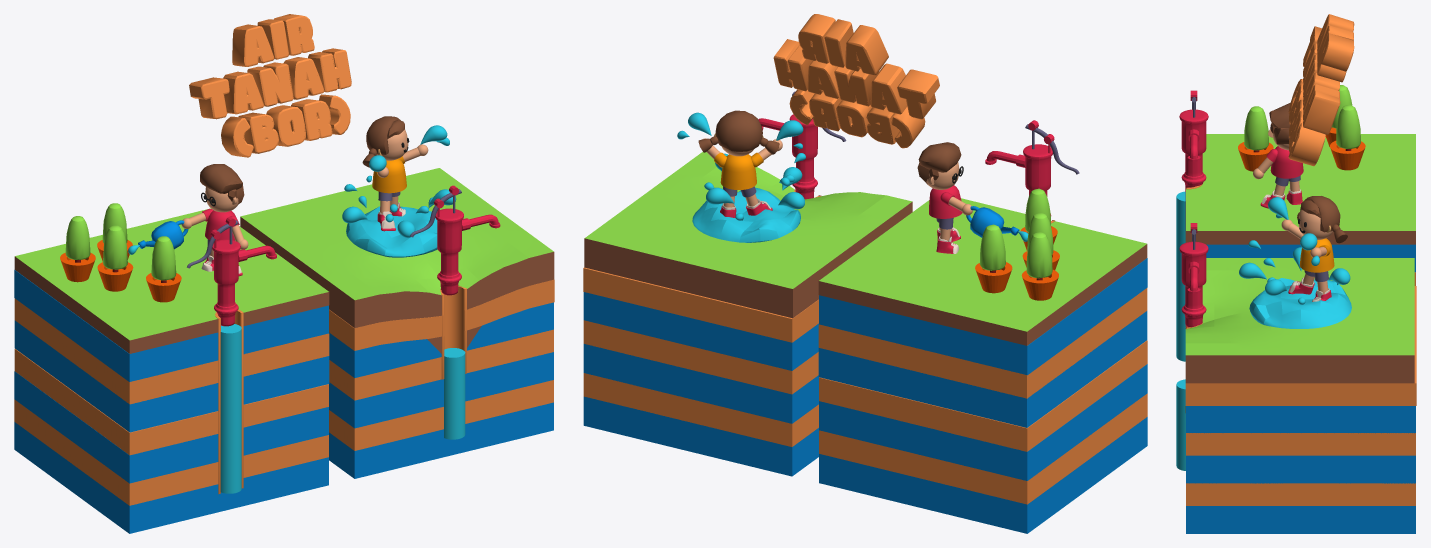
The picture shows the model from 3 angles, left to right: view 1: azimuth 30°, elevation 25°; view 2: azimuth 150°, elevation 25°; view 3: azimuth 270°, elevation 25°; orthographic projection. The views are drawn at different scales.
Parts seen in each view (by area): view 1: Cube.008, Cube.016, Text, Cube.009, Cube.013, Cube.011, Cube.015, Cube.012, Cube.014, Cube.010, Cube.002, Cube.004 (+20 smaller); view 2: Cube.008, Cube.016, Text, Cube.013, Cube.015, Cube.009, Cube.011, Cube.012, Cube.010, Cube.014, Cube.004, Cube.002 (+16 smaller); view 3: Cube.008, Cube.016, Cube.004, Cube.002, Cube.006, Text, Cube.007, Cube.003, Cube.005, Plane, Cube.015, Cylinder.053 (+17 smaller).
Boxes of the visible parts, <box> form: Cube.008: <box>240,168,554,353</box>; Cube.016: <box>14,208,329,353</box>; Text: <box>189,14,351,157</box>; Cube.009: <box>14,422,328,533</box>; Cube.013: <box>14,320,329,432</box>; Cube.011: <box>14,371,328,483</box>; Cube.015: <box>14,270,328,381</box>; Cube.012: <box>14,349,328,455</box>; Cube.014: <box>14,298,329,404</box>; Cube.010: <box>14,399,328,505</box>; Cube.002: <box>329,402,553,478</box>; Cube.004: <box>329,352,553,428</box>; Cube.008: <box>584,152,912,318</box>; Cube.016: <box>818,198,1147,345</box>; Text: <box>773,14,939,148</box>; Cube.013: <box>818,311,1147,427</box>; Cube.015: <box>819,258,1147,375</box>; Cube.009: <box>819,417,1147,533</box>; Cube.011: <box>819,364,1147,480</box>; Cube.012: <box>819,340,1147,451</box>; Cube.010: <box>819,393,1147,504</box>; Cube.014: <box>818,288,1147,398</box>; Cube.004: <box>583,344,818,423</box>; Cube.002: <box>583,396,818,476</box>; Cube.008: <box>1185,258,1414,383</box>; Cube.016: <box>1186,134,1415,244</box>; Cube.004: <box>1186,455,1415,483</box>; Cube.002: <box>1186,506,1415,533</box>; Cube.006: <box>1186,406,1415,433</box>; Text: <box>1288,14,1354,166</box>; Cube.007: <box>1185,286,1416,405</box>; Cube.003: <box>1186,483,1415,505</box>; Cube.005: <box>1186,433,1415,455</box>; Plane: <box>1249,278,1351,328</box>; Cube.015: <box>1206,244,1415,272</box>; Cylinder.053: <box>1179,241,1208,327</box>.
Size of the model in its own units: 0.328 by 0.2997 by 0.1606.
